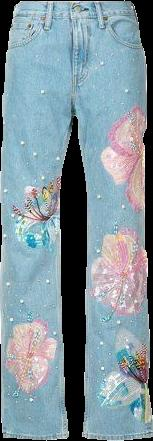Hemline: (82, 432, 152, 440), (3, 432, 68, 440)
Pantleg: (22, 0, 152, 440), (0, 2, 76, 436)
Waistline: (11, 14, 136, 21), (14, 0, 130, 7)
